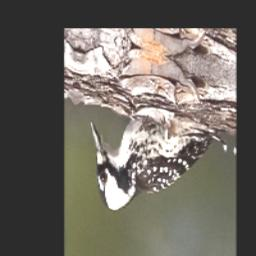Woodpecker: (83, 85, 214, 243)
